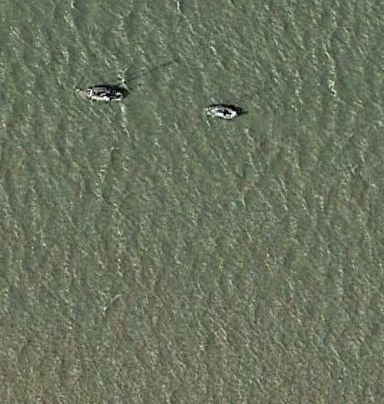boat: (76, 82, 130, 106), (204, 104, 240, 120)
